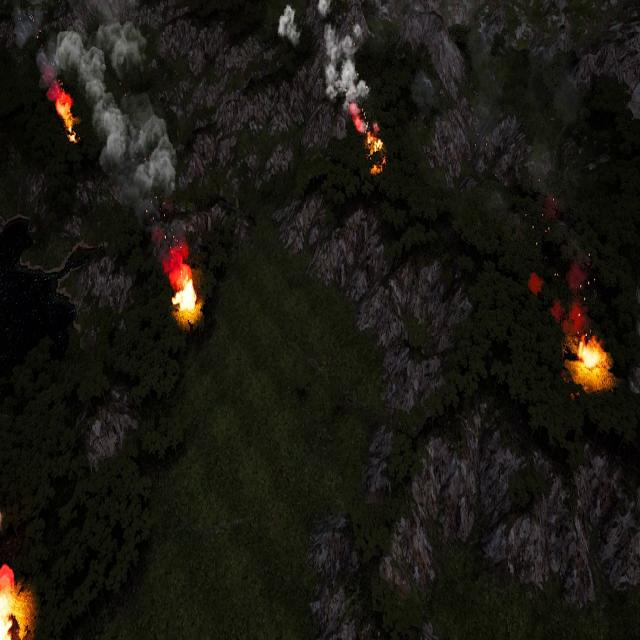fire: (0, 566, 27, 639), (171, 271, 200, 318), (363, 124, 388, 178), (576, 336, 605, 379), (53, 85, 77, 136)
smoke: (13, 0, 181, 209), (316, 0, 369, 130), (530, 260, 588, 336), (278, 7, 303, 48)
